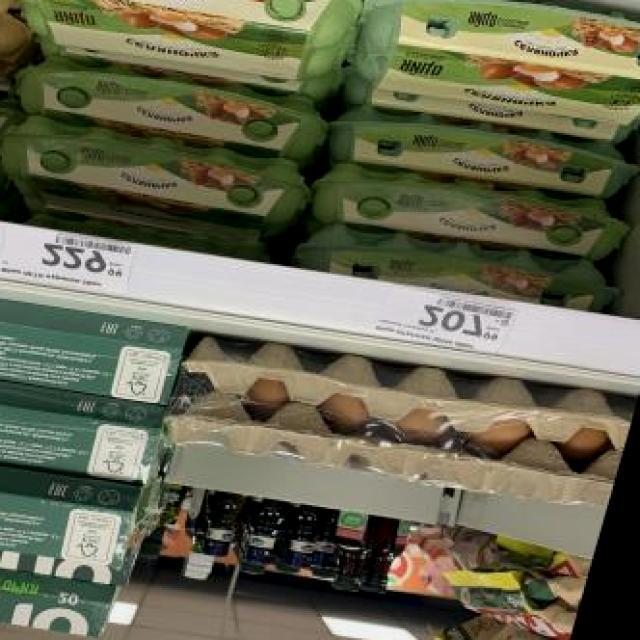egg: (0, 110, 322, 247), (335, 0, 640, 139), (0, 46, 343, 166), (300, 152, 639, 268), (318, 94, 640, 212), (0, 0, 368, 93), (288, 214, 632, 312), (161, 486, 253, 600), (316, 506, 382, 596), (268, 495, 334, 581), (231, 493, 291, 583), (354, 516, 416, 602), (0, 2, 40, 87)
